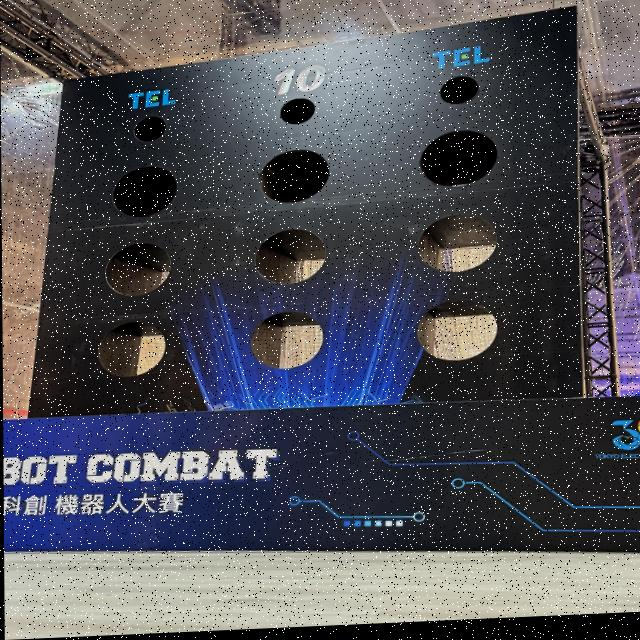hole: (417, 299, 497, 361), (417, 213, 497, 273), (421, 129, 497, 187), (252, 310, 324, 370), (256, 228, 326, 285), (99, 320, 165, 378), (260, 149, 329, 204), (107, 242, 171, 296), (114, 165, 175, 218), (440, 76, 478, 104), (281, 97, 315, 124), (134, 115, 166, 142)
